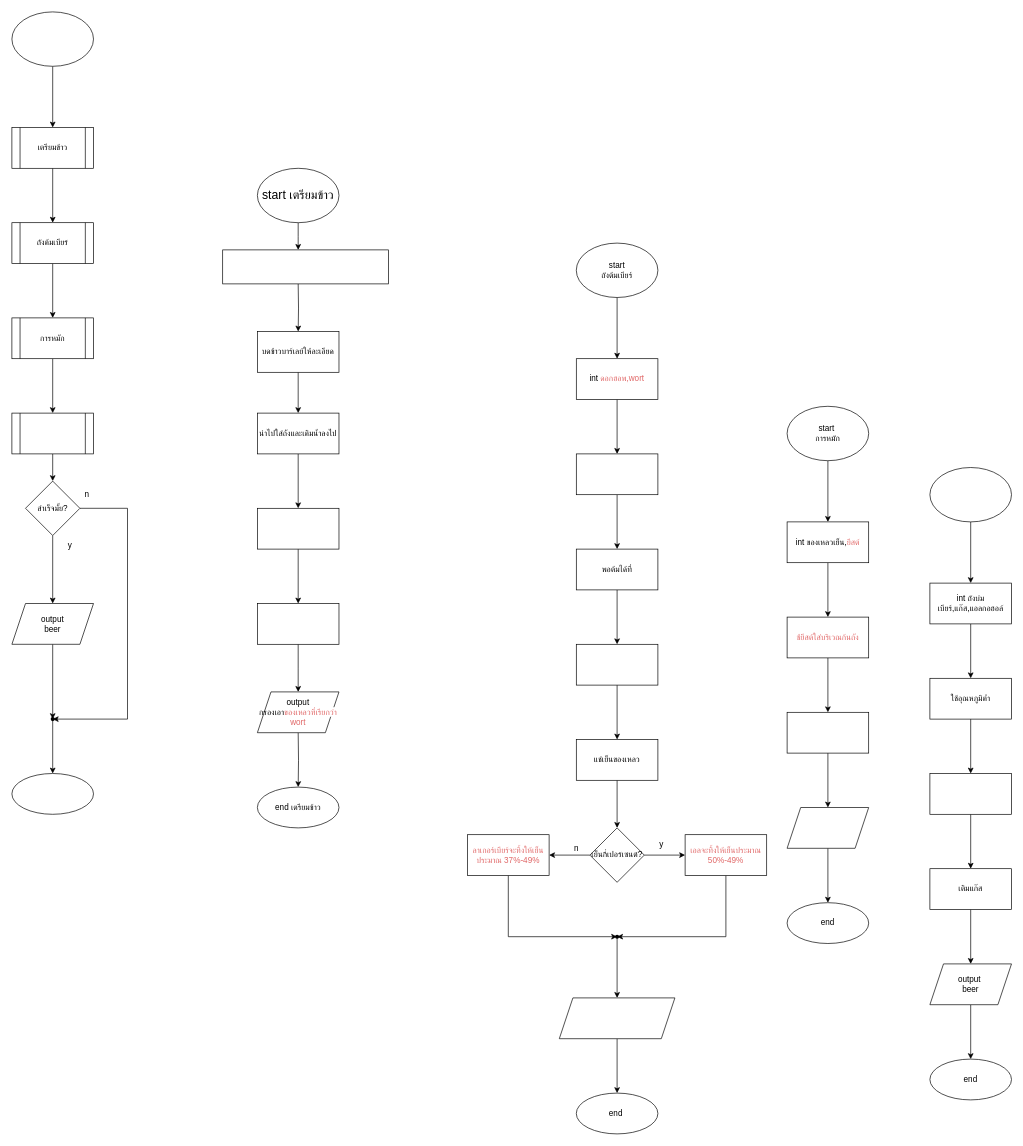
Some shapes in this 1023 by 1146 pixel diagram are drawn without their labels. The shapes that lost their labels are listed below. From the top down, each one's centre as x and y in pixels, then its label:
(52,38): start
(305,266): int ข้าวบาร์เลย์
(52,433): การบ่ม
(617,474): นำ ดอกฮอพ,wort มาต้ม
(970,494): start การเก็บบ่ม
(298,528): ให้ความร้อนต่ำ 1-6 ชม
(298,623): รอให้ตกตะกอน
(617,664): กรองเอาดอกฮอพออก
(827,732): รอ 2-3 วัน
(52,793): stop
(970,793): พอตกตะกอนแล้วนำมากรอง
(827,827): output แอลกอฮอล์ และ แก๊ส
(617,1018): output ของเหลวเย็นตามเปอร์เซนต์ที่ต้องการ
